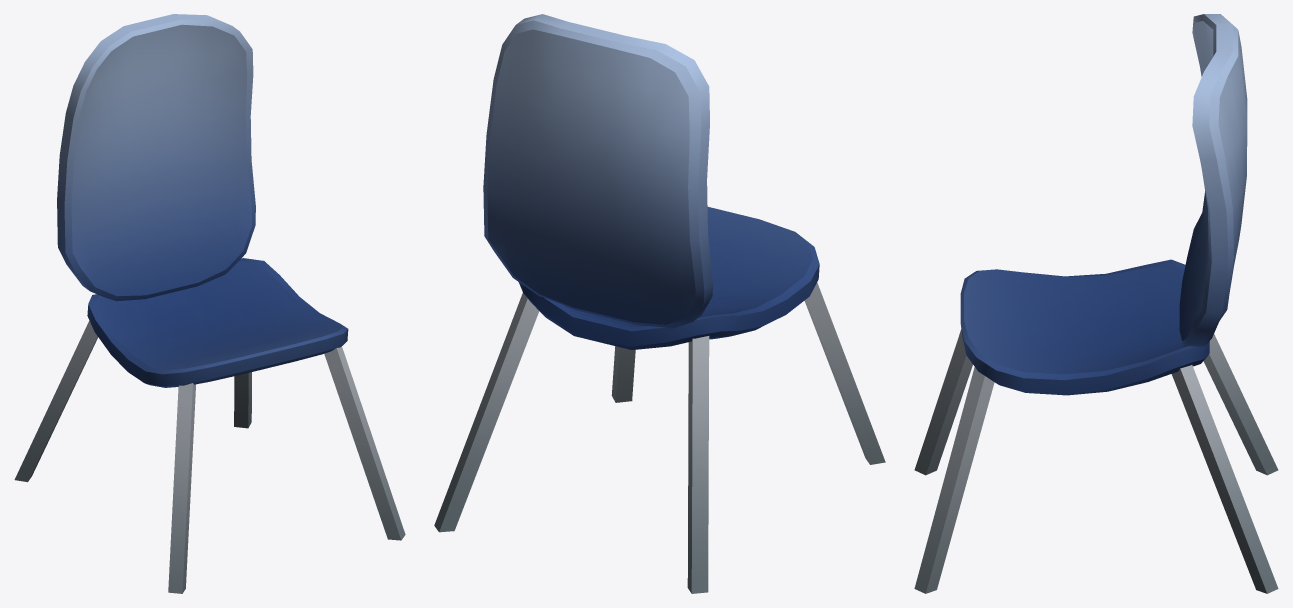
File: Chair_02.fbx
3 renders of one model, left to right at view 1: azimuth 30°, elevation 25°; view 2: azimuth 150°, elevation 25°; view 3: azimuth 270°, elevation 25°, orthographic. The views are drawn at different scales.
Visible parts, largest first — view 1: Box017; view 2: Box017; view 3: Box017.
Boxes of the visible parts, box(x1,y1,x2,y2) form: Box017: box(14, 14, 405, 593); Box017: box(434, 14, 885, 593); Box017: box(914, 14, 1278, 593).
Bounding box in the file's own units: 62.71 × 112 × 75.
